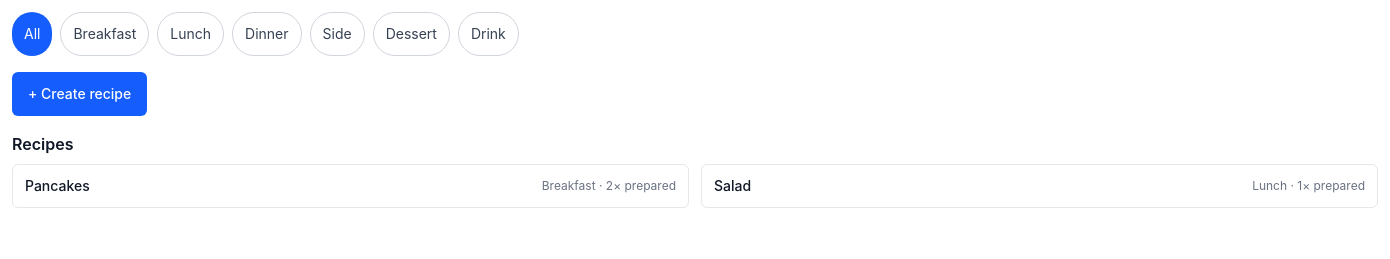
RecipeBox › filters by category with single-select chips
This screenshot has width=1390, height=259.
Expected: the text "Pancakes" is shown, [25,176,90,196]
Click the button "Lunch" at (191, 34), box [157,12,224,56]
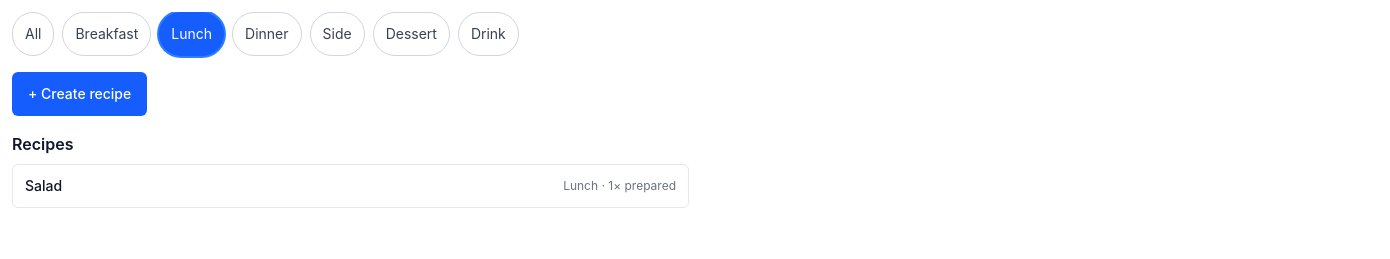
Expected: the text "Salad" is shown, [25,176,62,196]
Expected: the button "Pancakes" is gone
// a chip with no matches shows the filtered empty state
Click the button "Dessert" at (411, 34), box [373,12,450,56]
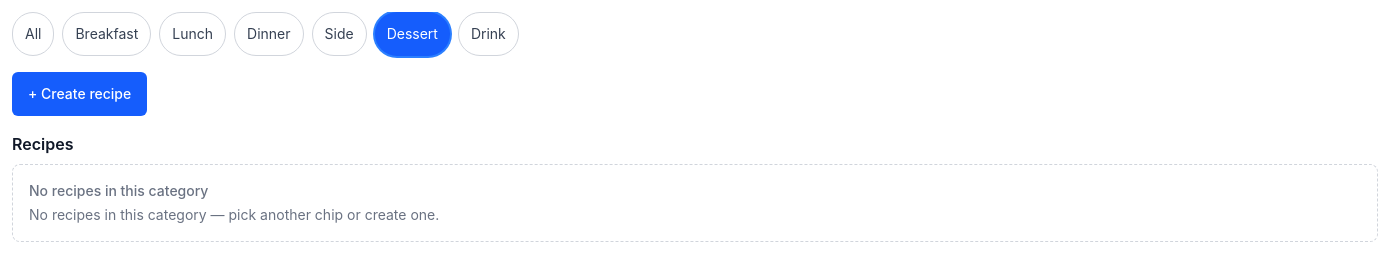
Expected: the text "No recipes in this category" is shown, [29,182,208,199]
